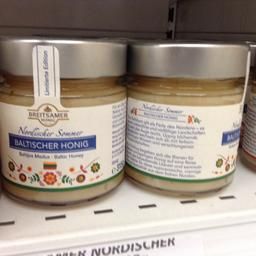honey: (0, 34, 129, 209), (128, 39, 253, 199)
